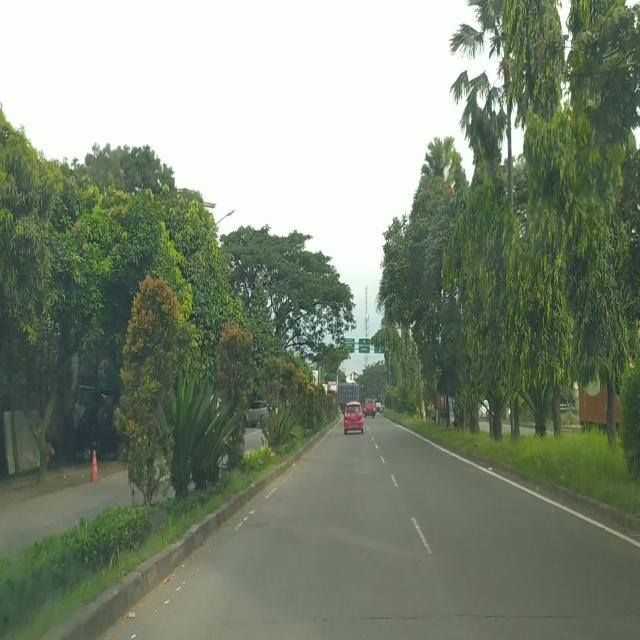Sewer Cover: (323, 606, 640, 622)
